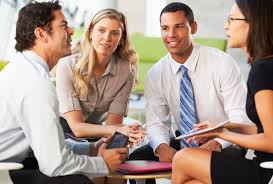person: (10, 6, 82, 96), (149, 9, 224, 82), (70, 1, 132, 78), (219, 4, 265, 72)
